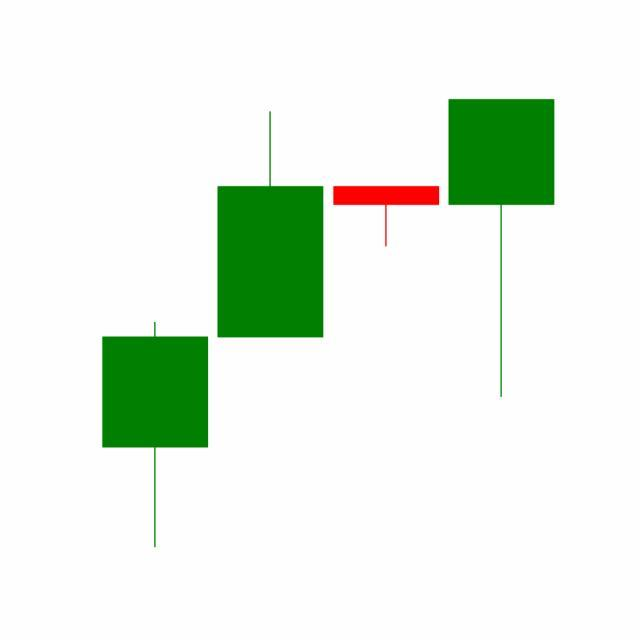Hanging Man: (444, 96, 560, 401)
